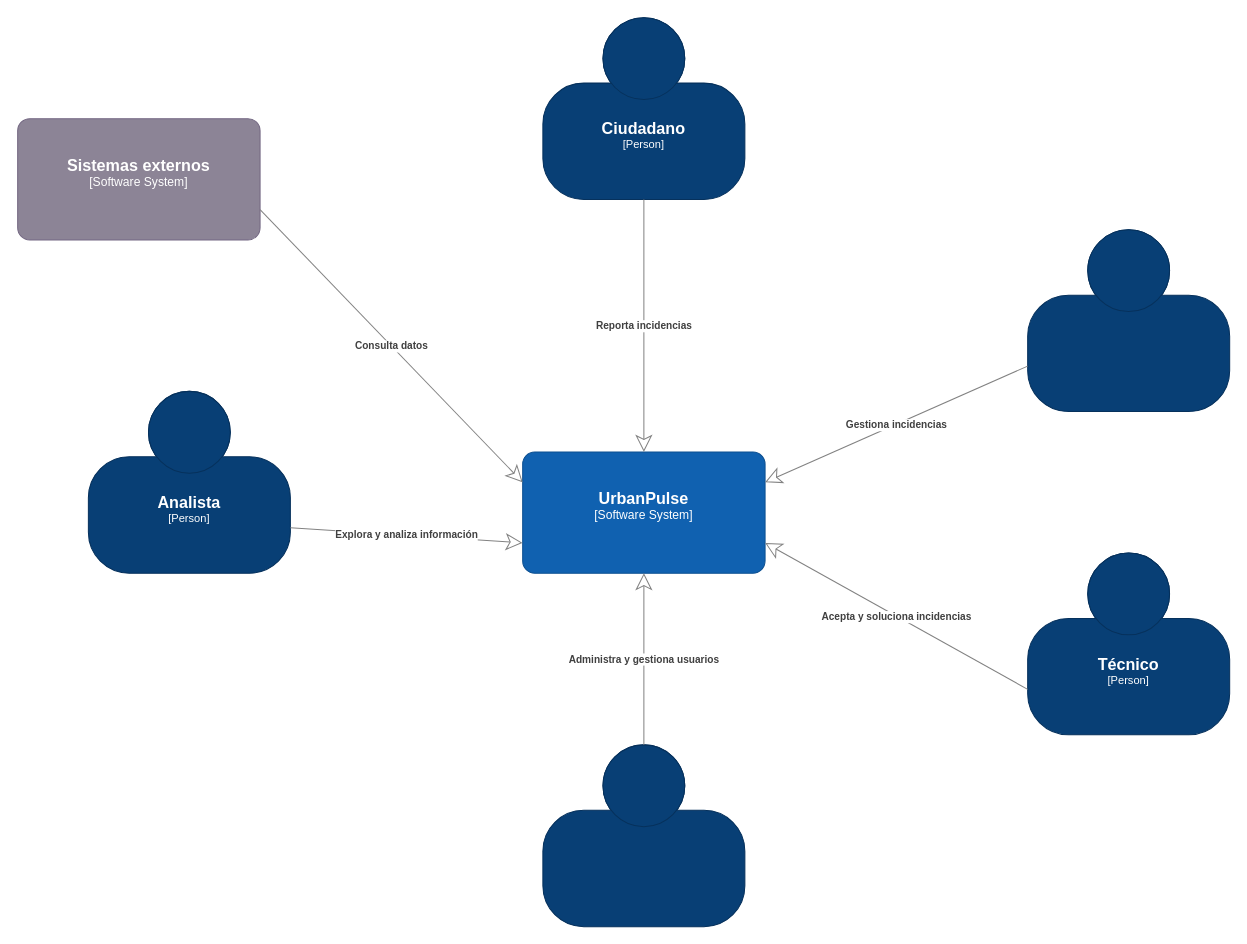
Image size: 1247x944. Some labels were removed from this diagram. Here are the shapes that lost their labels. From the top down, the centre of each, then its label:
the point at 1128,320: Operador municipal [Person]
the point at 643,835: Administrador [Person]
